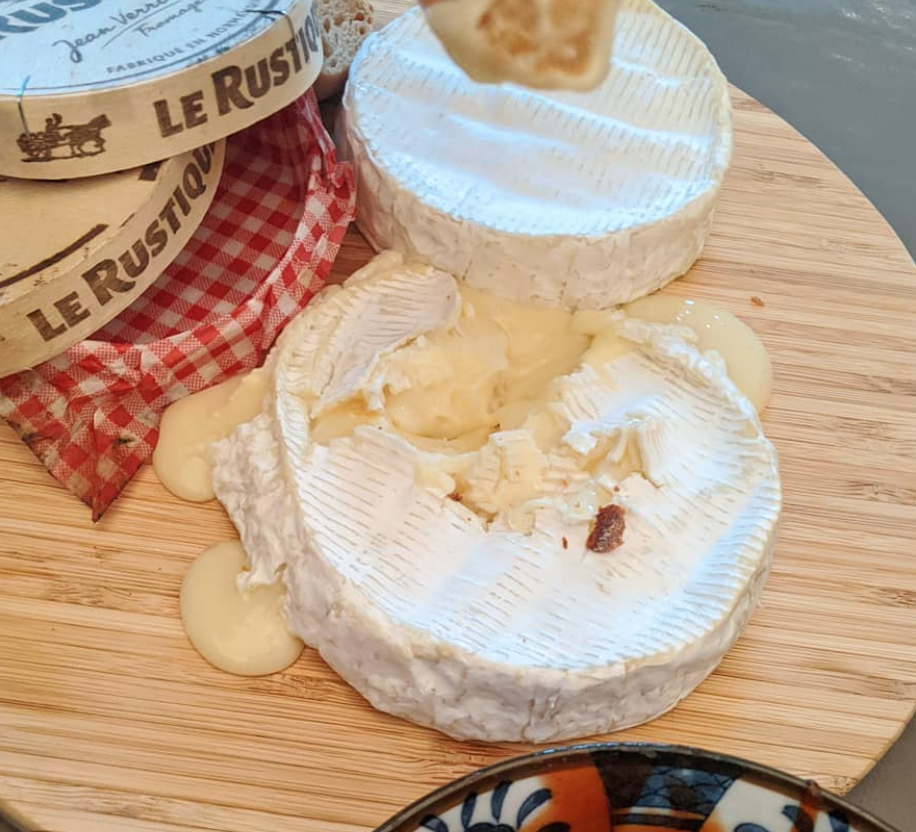camembert: (209, 247, 782, 748), (343, 1, 737, 311)
